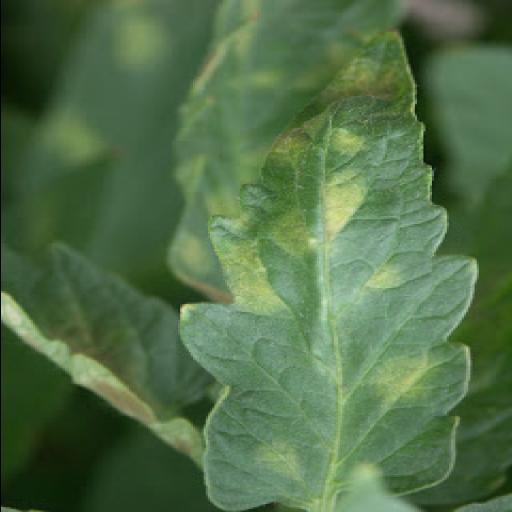Leaf Mold: (175, 25, 482, 512)
